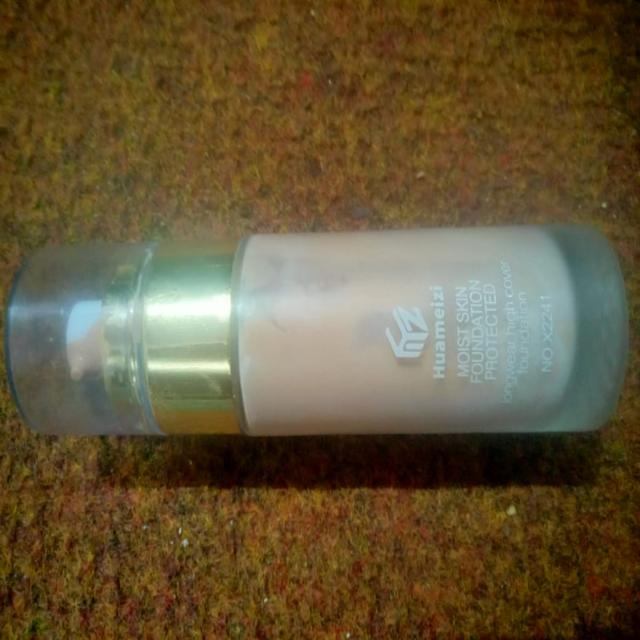serum: (4, 177, 618, 470)
